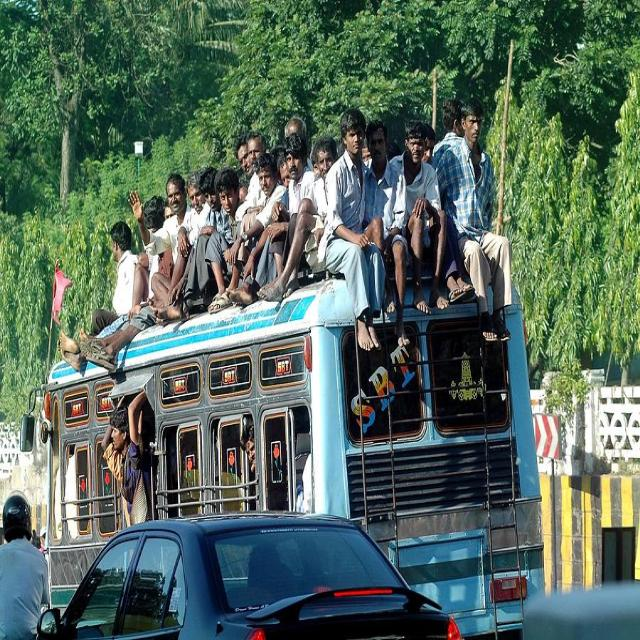bus: (40, 278, 542, 636)
car: (38, 514, 460, 640)
